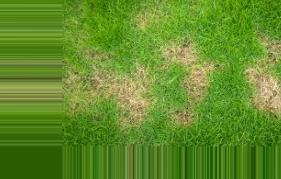patch: (85, 81, 117, 103), (117, 84, 143, 110), (187, 68, 215, 87), (255, 78, 275, 102), (177, 54, 193, 60)
